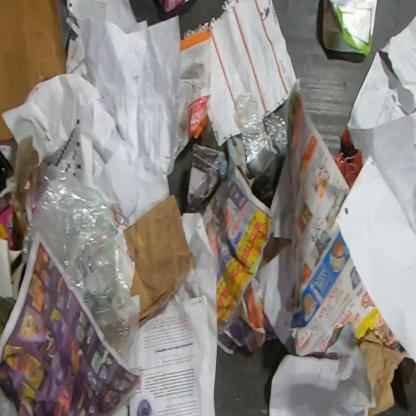cardboard: (124, 193, 197, 326), (0, 0, 67, 143), (359, 329, 406, 415), (186, 142, 228, 212), (332, 127, 363, 188), (157, 0, 190, 13)
soft_plastic: (22, 165, 140, 370), (235, 91, 288, 183)
